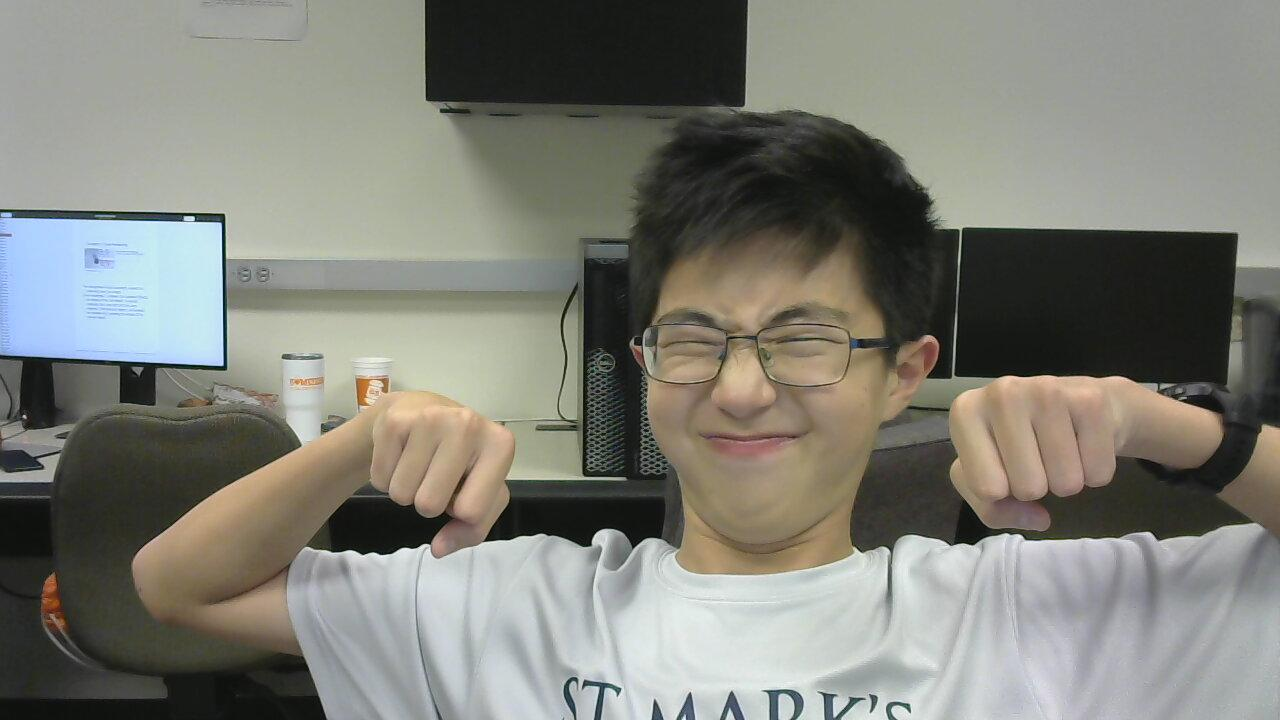fist: (916, 362, 1142, 549), (341, 369, 545, 573)
